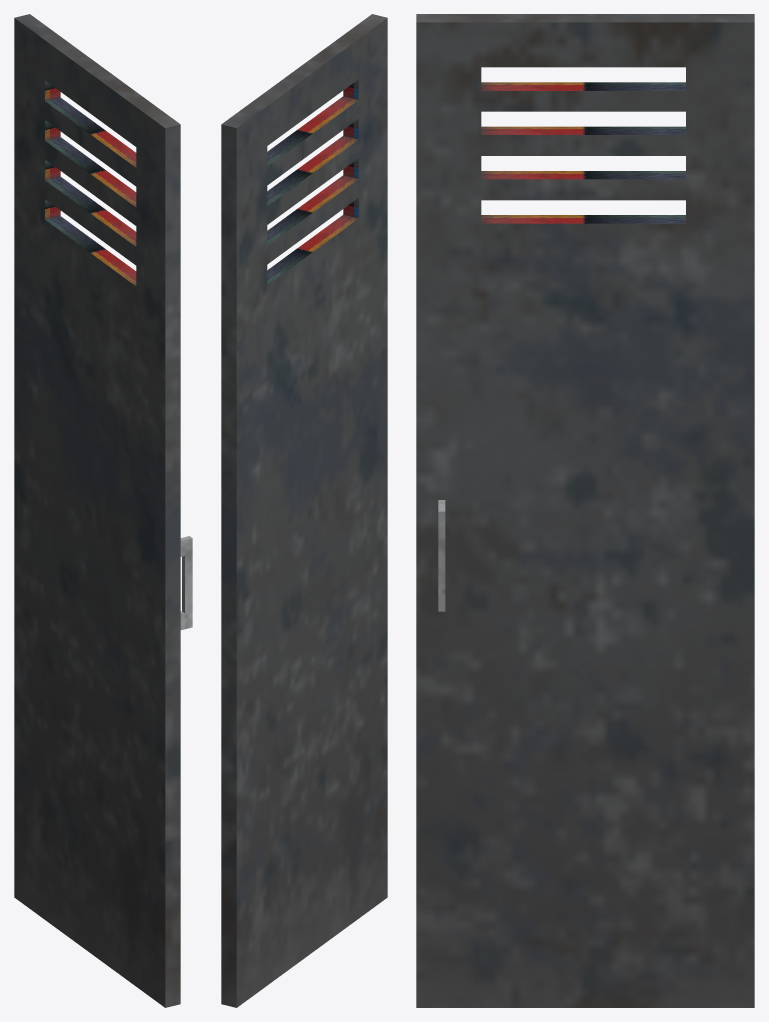
Rendered from UntitledDoor_Grill.fbx.
3 renders of one model, left to right at view 1: azimuth 30°, elevation 25°; view 2: azimuth 150°, elevation 25°; view 3: azimuth 270°, elevation 25°, orthographic. The views are drawn at different scales.
Parts seen in each view (by area): view 1: Door; view 2: Door; view 3: Door.
Part boxes in pixels (x1,y1,x2,y2): Door: (14, 14, 192, 1007); Door: (221, 14, 387, 1007); Door: (416, 14, 754, 1007).
Bounding box in the file's own units: 3.98 × 89.99 × 27.99.
